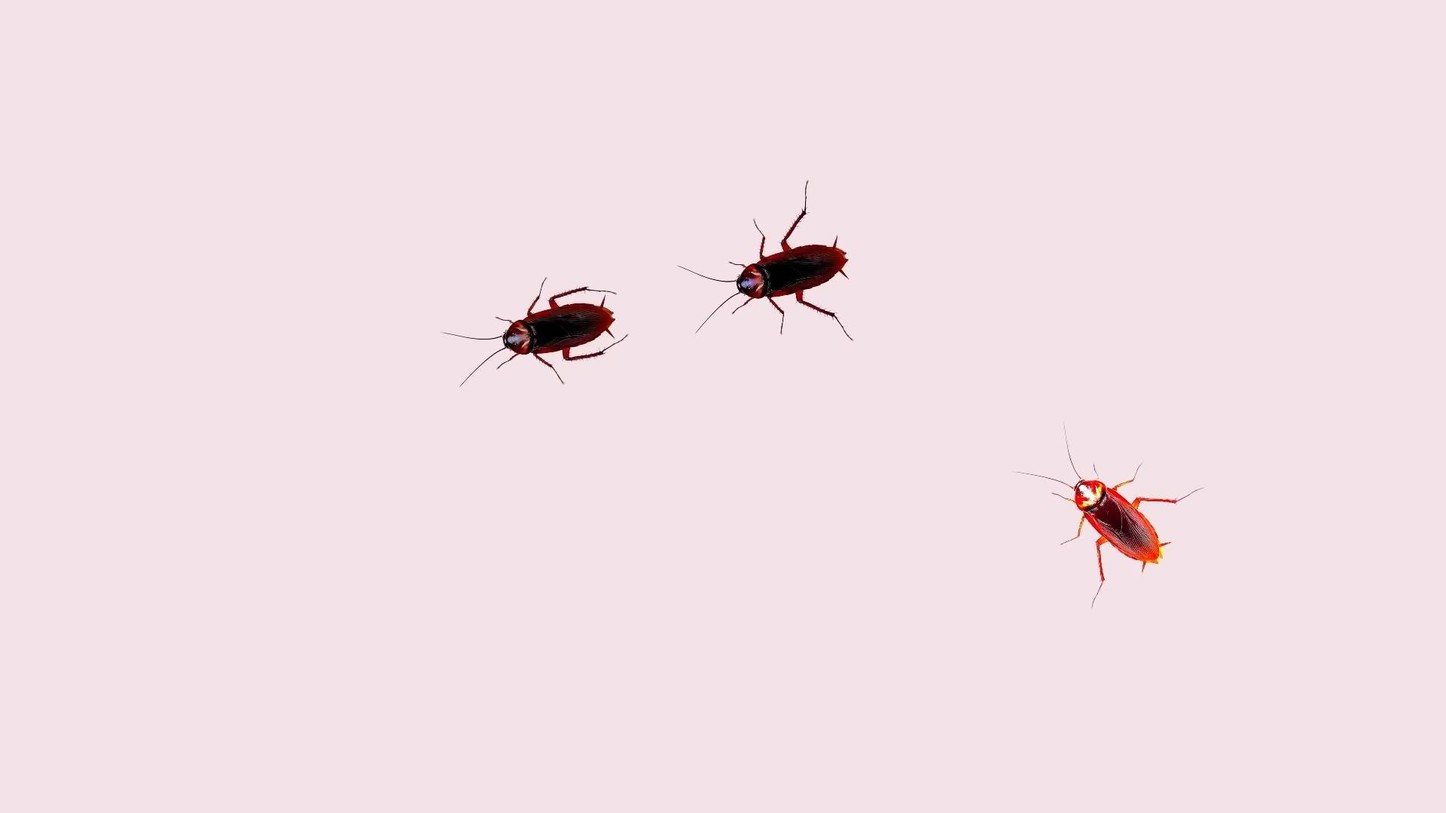cockroach: (1015, 432, 1189, 589), (671, 222, 867, 343), (433, 282, 621, 380)
